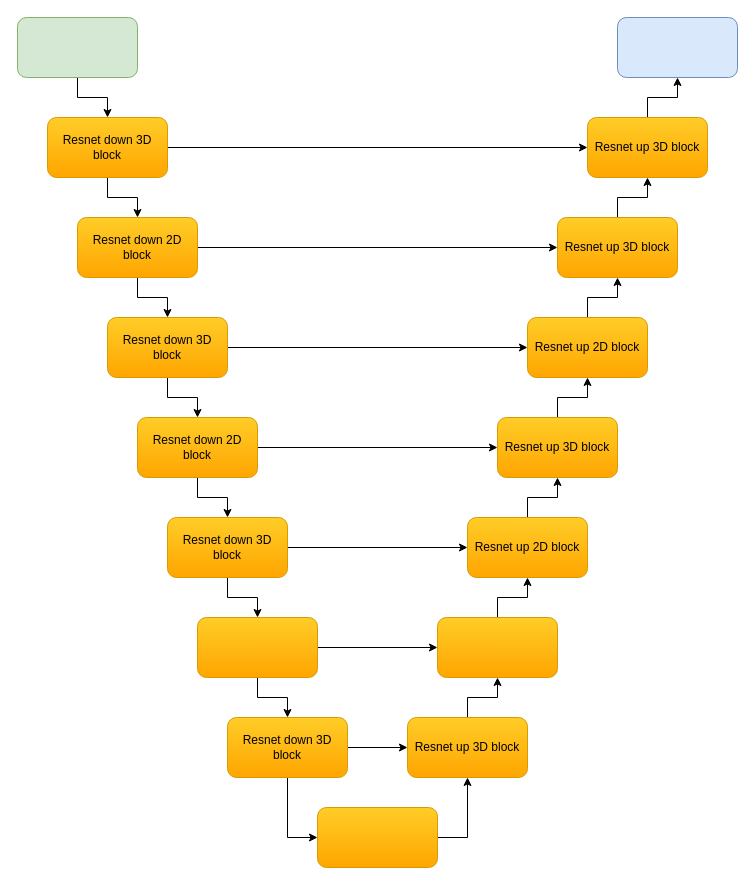
This 755x885 diagram has some shape labels left out. Each missing label, with the centre of its shape:
"Attention down 3D block" belongs at [257,647].
"Attention up 3D block" belongs at [497,647].
"Input" belongs at [77,47].
"Mid block" belongs at [377,837].
"Output" belongs at [677,47].
